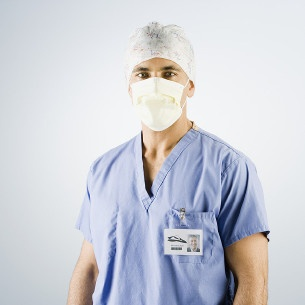Mask: (129, 64, 196, 131)
